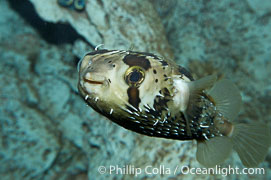Diodon_holocanthus: (71, 38, 240, 146)
